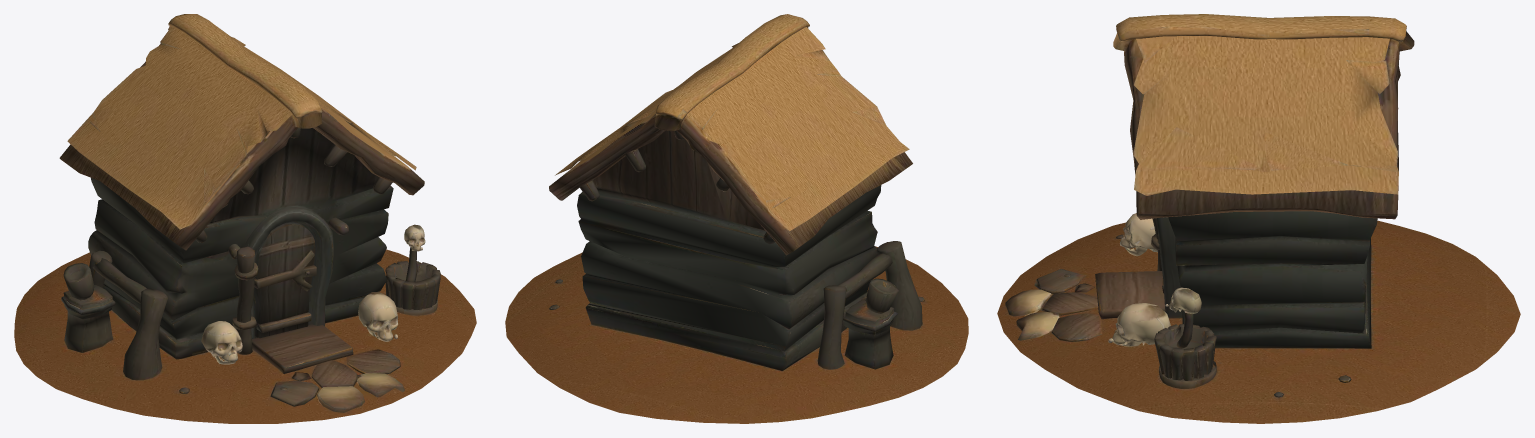
The model's file is goblin_hut.glb.
The picture shows the model from 3 angles, left to right: view 1: azimuth 30°, elevation 25°; view 2: azimuth 150°, elevation 25°; view 3: azimuth 270°, elevation 25°; orthographic projection. The views are drawn at different scales.
Bounding box in the file's own units: 0.957 × 0.6069 × 0.9614.
1 material, 1 textured.
